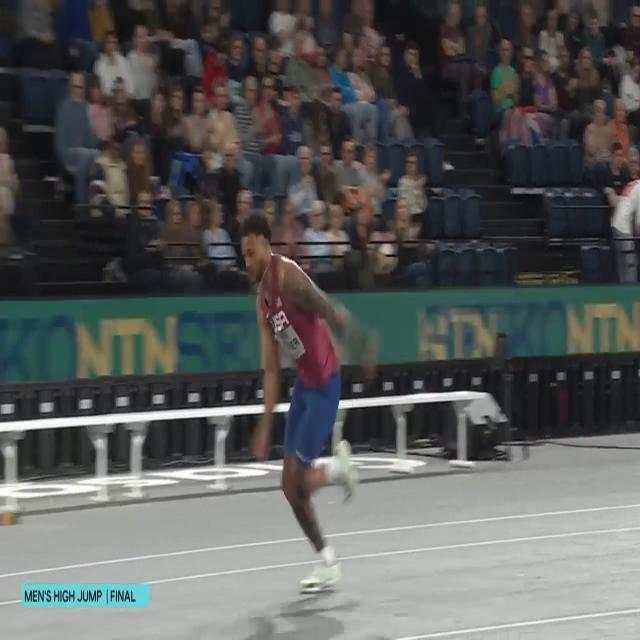run: (236, 209, 380, 597)
